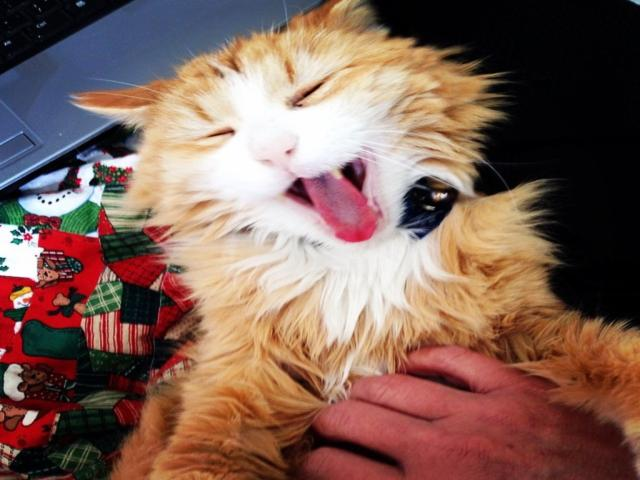Cat: (65, 0, 639, 479)
